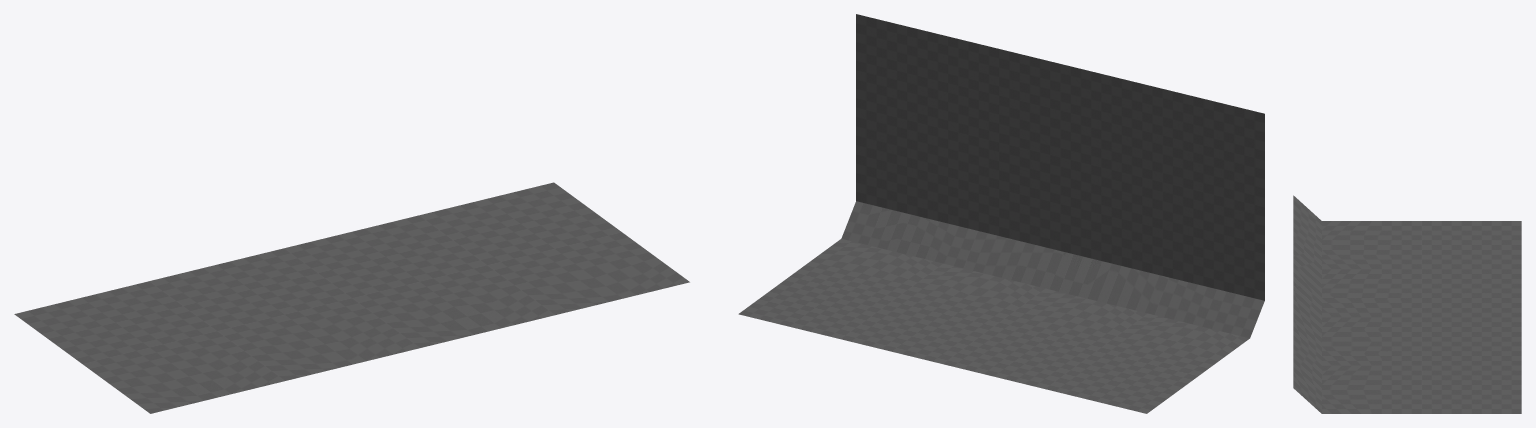
3 views of the same model, side by side, from view 1: azimuth 30°, elevation 25°; view 2: azimuth 150°, elevation 25°; view 3: azimuth 270°, elevation 25° (orthographic). The views are drawn at different scales.
Visible parts, largest first — view 1: 0; view 2: 0; view 3: 0.
Boxes of the visible parts, x1,y1,x2,y2 form: 0: [14, 182, 689, 413]; 0: [738, 14, 1264, 413]; 0: [1293, 195, 1521, 413].
Size of the model in its own units: 4 by 2 by 2.
Materials: 1 (1 with a texture image).
